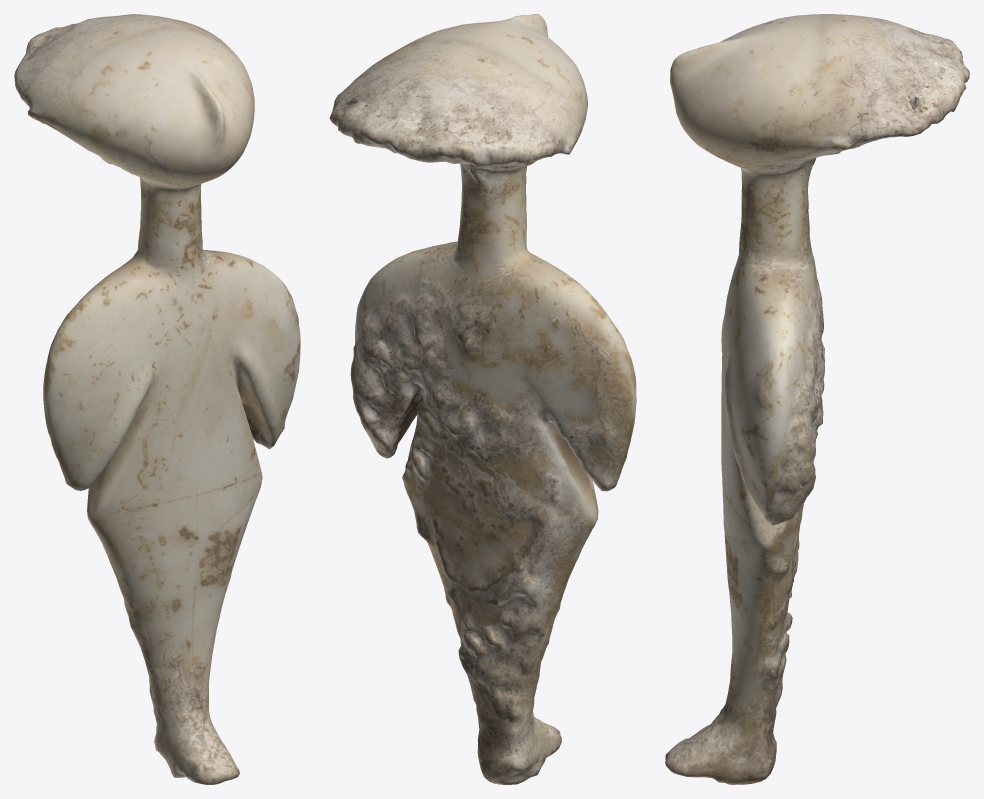
Rendered from preview.glb.
3 views of the same model, side by side, from view 1: azimuth 30°, elevation 25°; view 2: azimuth 150°, elevation 25°; view 3: azimuth 270°, elevation 25° (orthographic). The views are drawn at different scales.
Parts seen in each view (by area): view 1: Object_2; view 2: Object_2; view 3: Object_2.
Part boxes in pixels (<box>): Object_2: <box>14,14,300,784</box>; Object_2: <box>329,14,636,784</box>; Object_2: <box>665,14,969,784</box>.
Bounding box in the file's own units: 6.48 × 17.29 × 6.33.
Materials: 1 (1 with a texture image).
